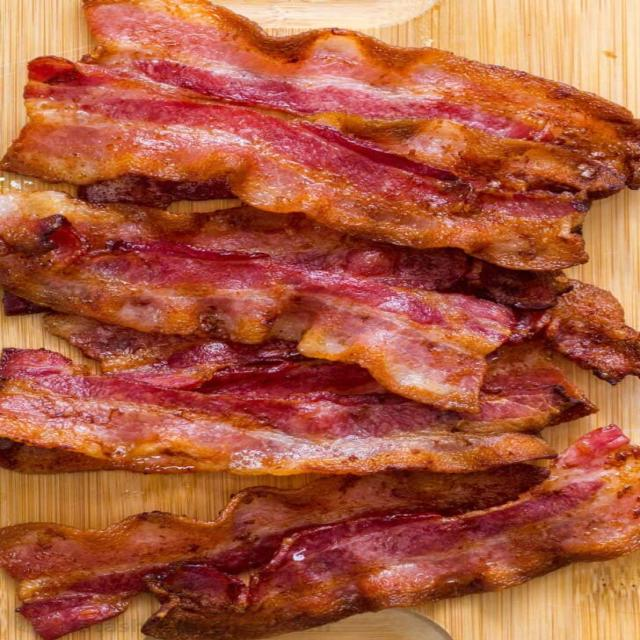Bacon: (4, 0, 639, 269), (2, 191, 518, 411), (142, 426, 639, 640), (0, 464, 548, 639), (0, 360, 553, 475)
